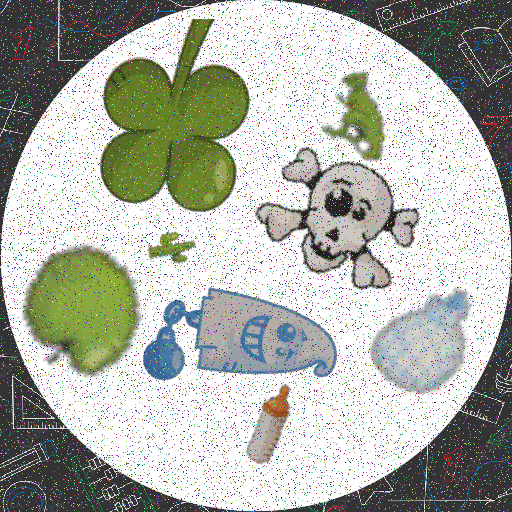apple_icon: (21, 242, 158, 379)
bottle_icon: (229, 382, 314, 467)
cactus_icon: (145, 222, 196, 273)
cloverleaf_icon: (85, 19, 297, 231)
dino_icon: (320, 71, 411, 162)
ghost_icon: (141, 242, 344, 445)
igloo_icon: (366, 275, 488, 397)
skull_icon: (255, 129, 435, 309)
